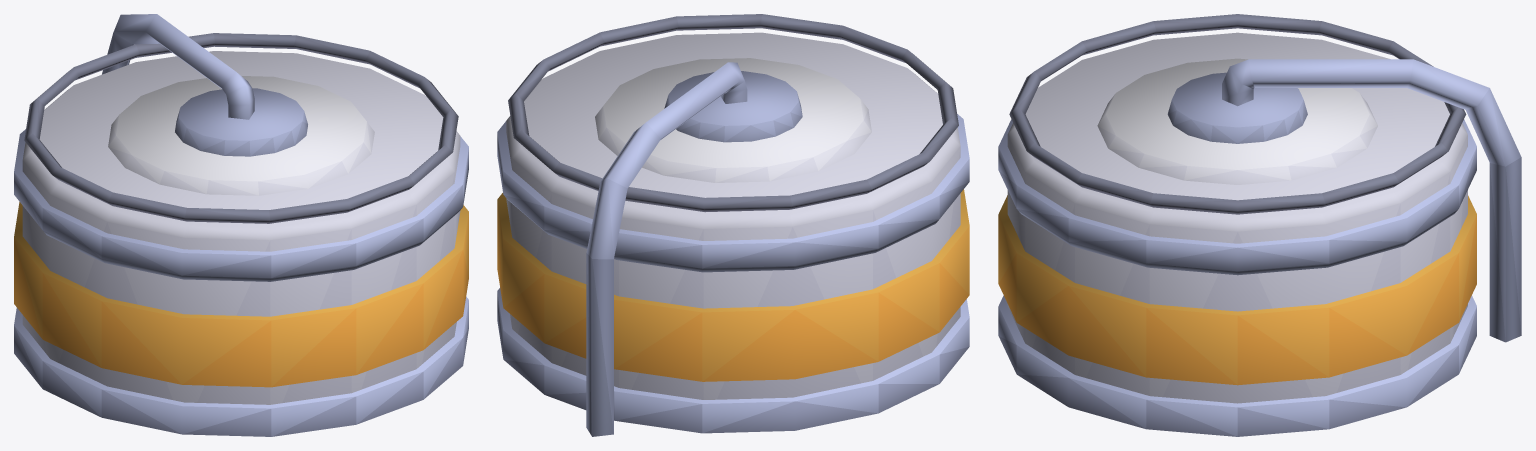
File: detail-tank-large.obj
3 views of the same model, side by side, from view 1: azimuth 30°, elevation 25°; view 2: azimuth 150°, elevation 25°; view 3: azimuth 270°, elevation 25° (orthographic). The views are drawn at different scales.
Size of the model in its own units: 1.51 by 0.9616 by 1.65.
